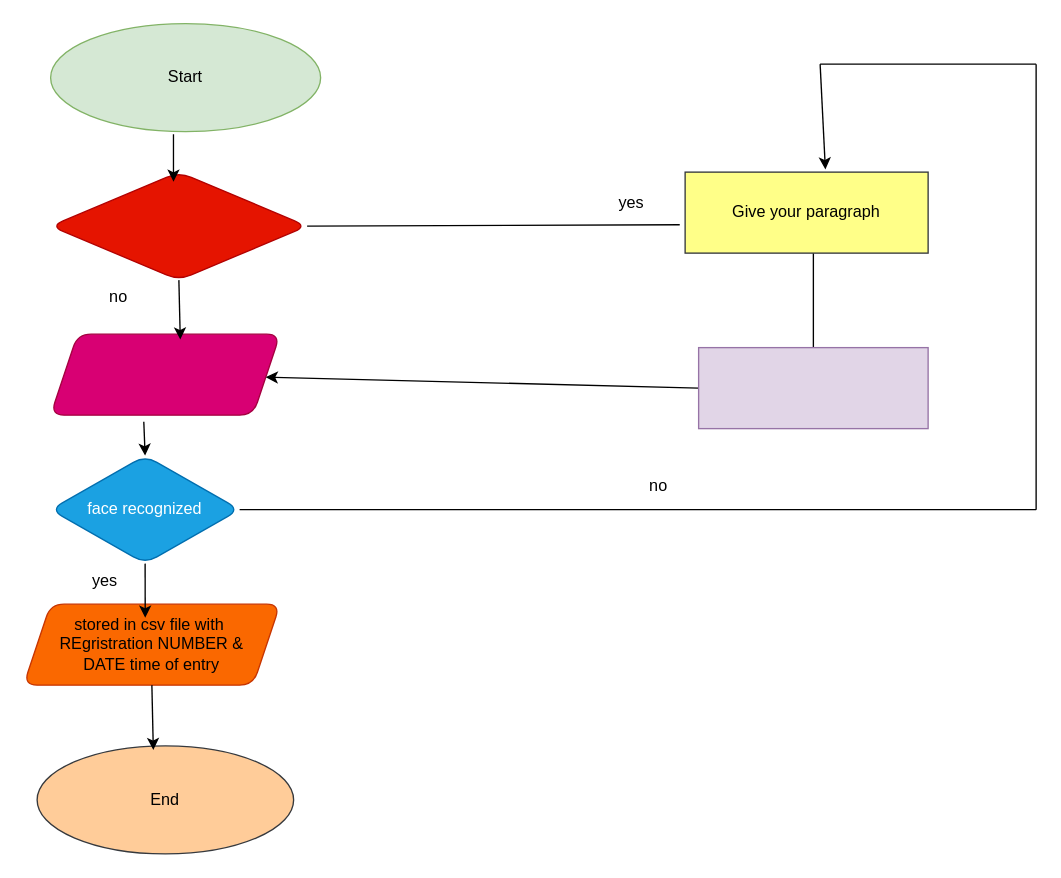
This 1061x878 diagram has some shape labels left out. The centre of each missing label's shape, as x and y in pixels:
"new user" belongs at (x=178, y=225).
"recongnize the face" belongs at (x=164, y=374).
"store the face data in folder on your name" belongs at (x=812, y=387).
